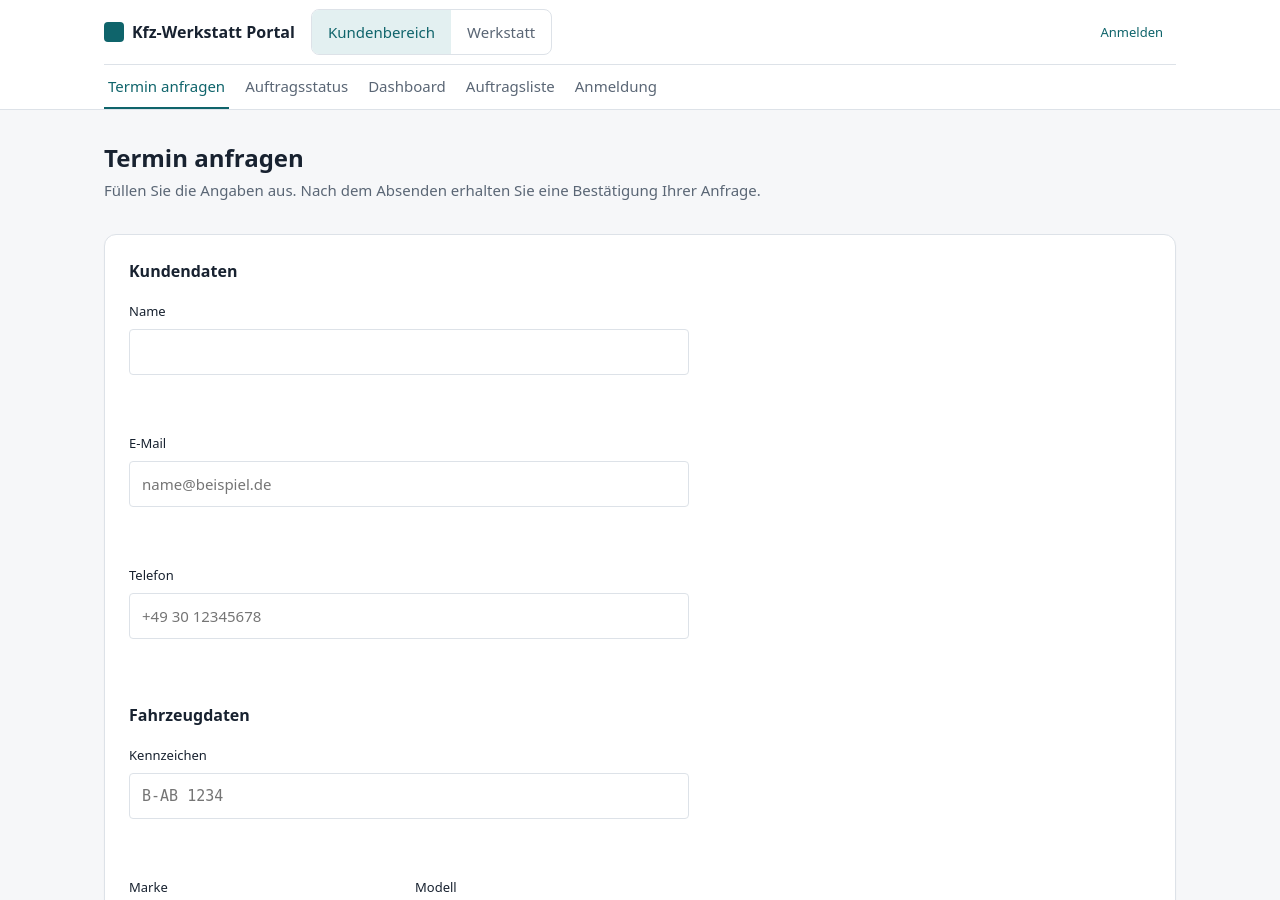
Test: app shell › navigates to the target page when a navigation entry is clicked
The width and height of the screenshot is (1280, 900).
Click the link "Auftragsstatus" at coordinates (297, 86), box x1=245 y1=76 x2=348 y2=96
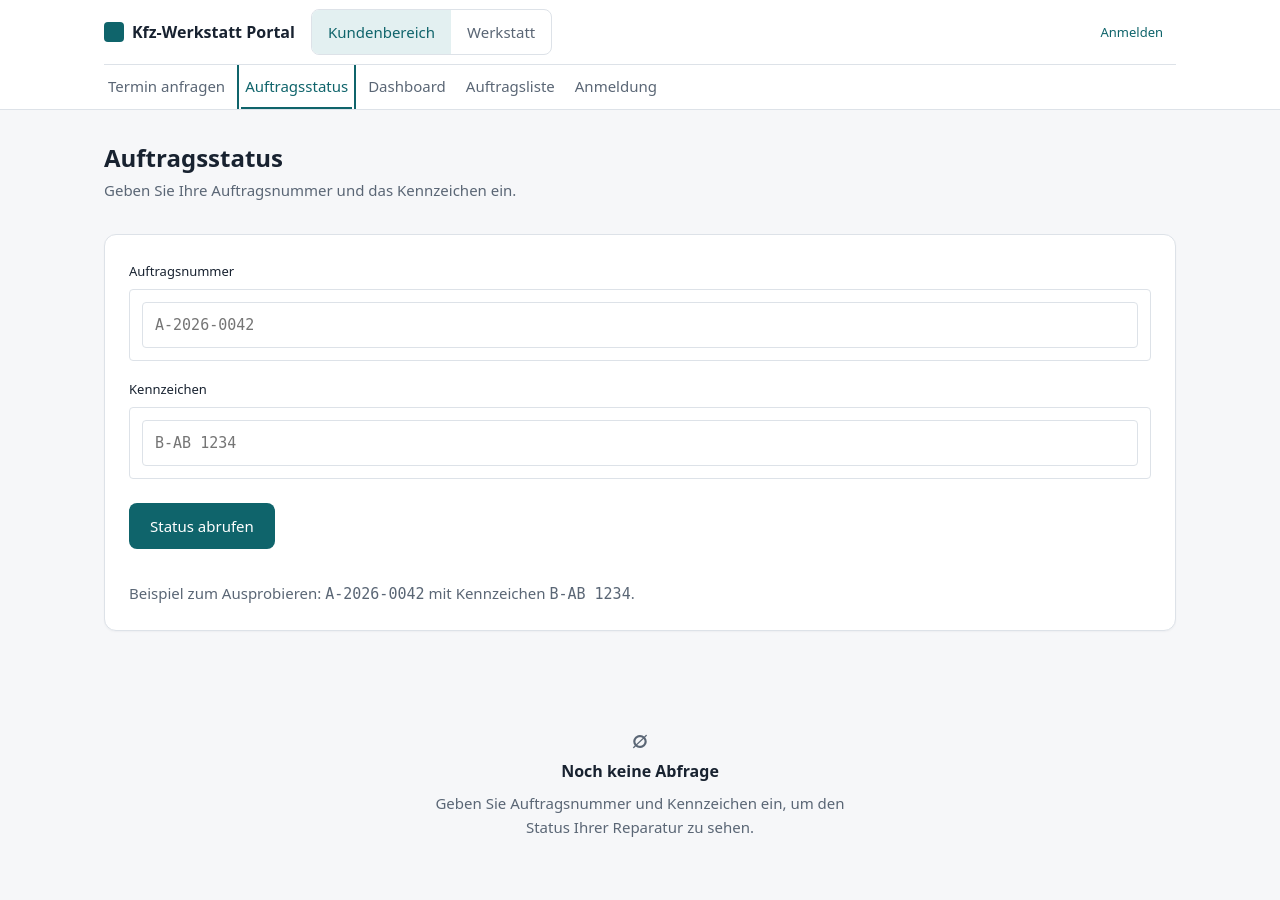
Now the heading "Auftragsstatus" is shown, box x1=104 y1=141 x2=283 y2=174
